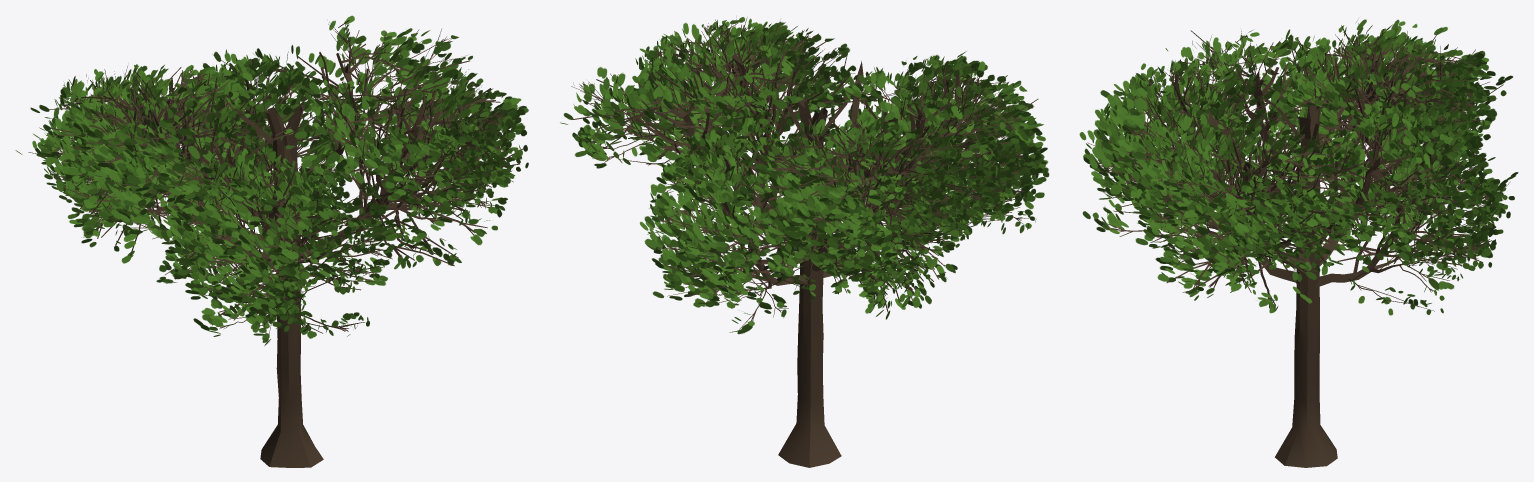
3 renders of one model, left to right at view 1: azimuth 30°, elevation 25°; view 2: azimuth 150°, elevation 25°; view 3: azimuth 270°, elevation 25°, orthographic. The views are drawn at different scales.
Visible parts, largest first — view 1: oak 01.001_trunk_Mat.001_0.088; view 2: oak 01.001_trunk_Mat.001_0.088; view 3: oak 01.001_trunk_Mat.001_0.088.
Part boxes in pixels (x1=…): oak 01.001_trunk_Mat.001_0.088: x1=15, y1=15, x2=528, y2=467; oak 01.001_trunk_Mat.001_0.088: x1=560, y1=17, x2=1049, y2=467; oak 01.001_trunk_Mat.001_0.088: x1=1079, y1=18, x2=1518, y2=467.
Bounding box in the file's own units: 4.59 × 3.81 × 4.18.
Materials: 2 (1 with a texture image).
